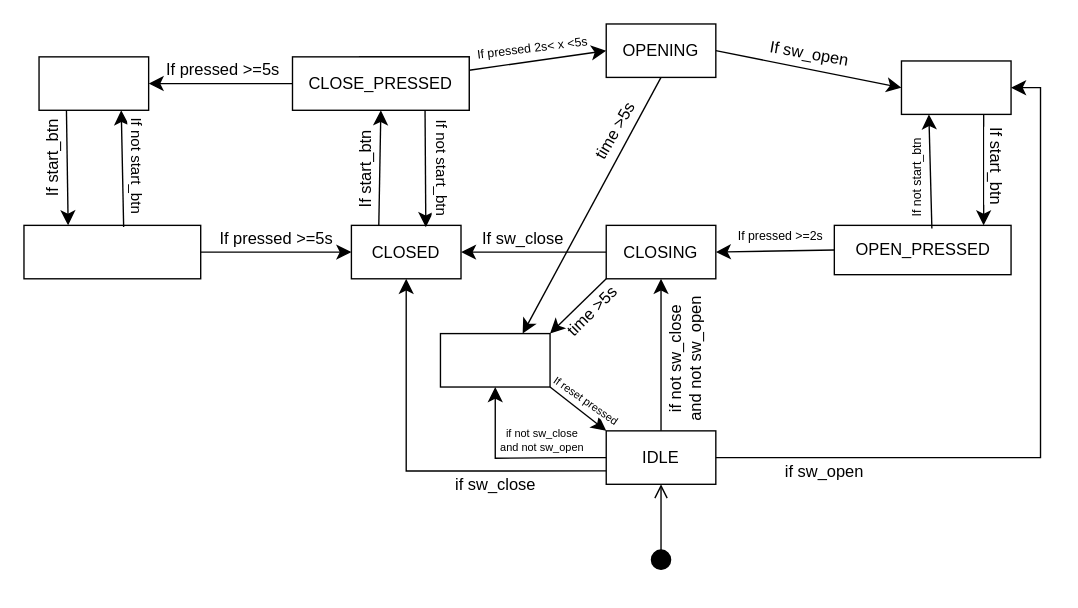
Image size: 1078x608. Some labels were removed from this diagram. The box of each missing label's shape, as (x1, y1, x2, y2) in pixels:
ERROR: (439, 332, 550, 387)
LOCK_PRESSED: (23, 224, 201, 279)
LOCKED: (38, 55, 149, 110)
OPEN: (900, 60, 1011, 114)
